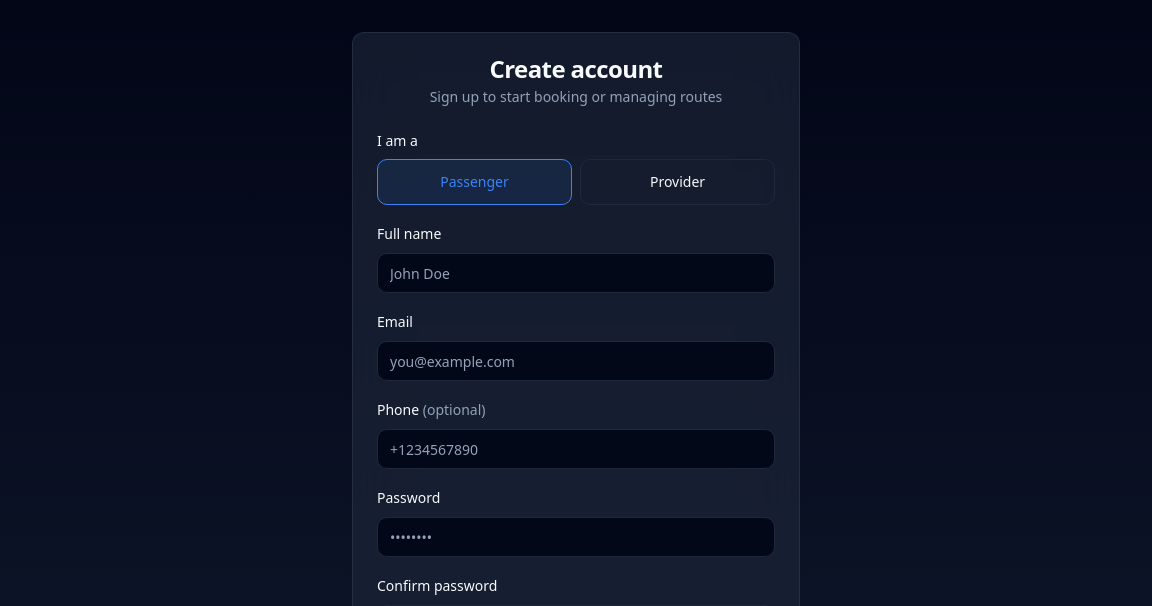
it: RegisterPage › password strength indicator › shows Strong for a long password with special chars
The image size is (1152, 606).
Type "StrongPass1!abc" into the password field labelled "Password".
click(576, 537); type("StrongPass1!abc")  # box [377,517,775,557]
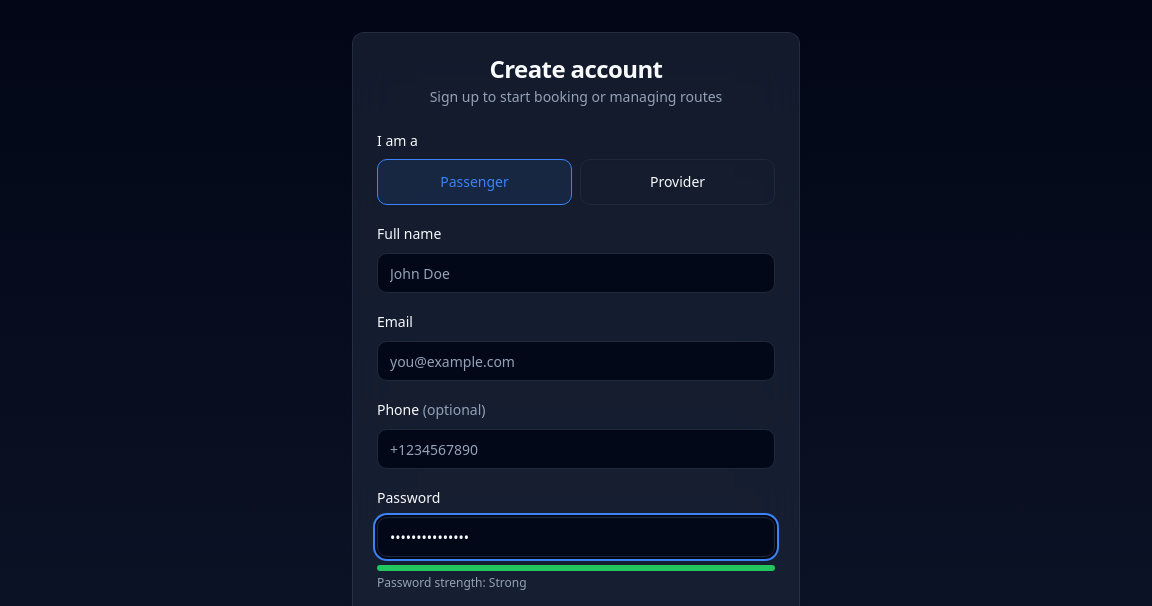
Result: the text with test id "strength-label" reads "Strong" at [489,574,527,591]
